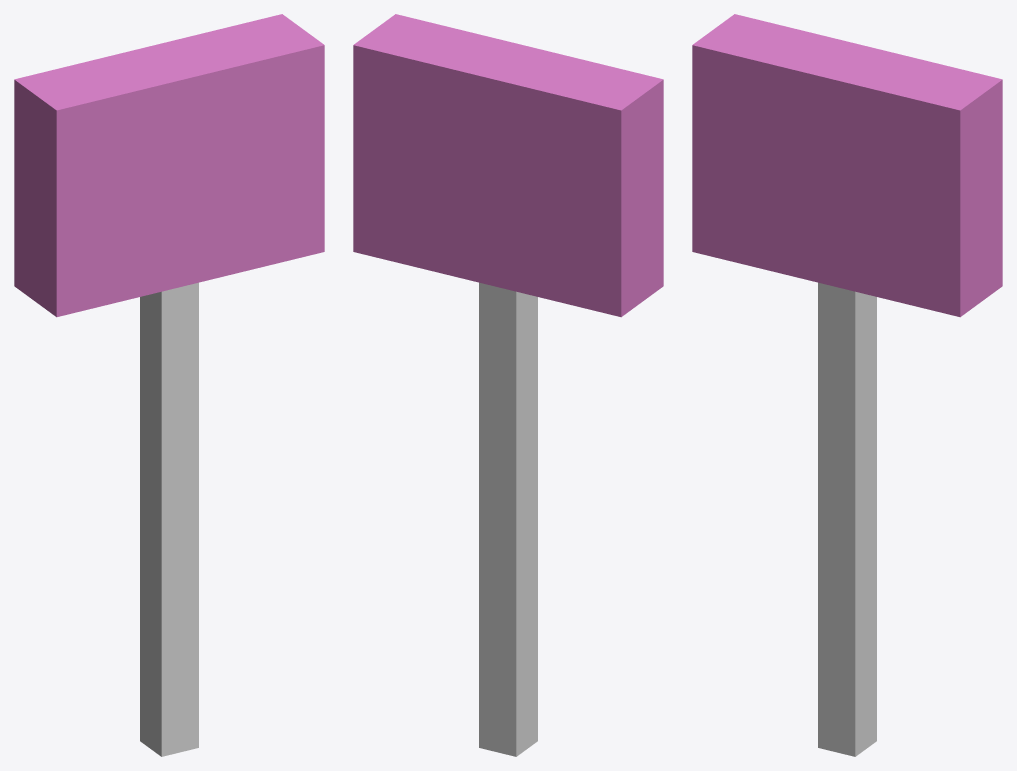
Rendered from convinience store_sign (1).fbx.
The picture shows the model from 3 angles, left to right: view 1: azimuth 30°, elevation 25°; view 2: azimuth 150°, elevation 25°; view 3: azimuth 330°, elevation 25°; orthographic projection.
Parts seen in each view (by area): view 1: Cube.001, Cube.001_cell.008, Cube.001_cell.013, Cube.001_cell.005, Cube.001_cell.006, Cube.001_cell.014, Cube.001_cell.004, Cube.001_cell, Cube.001_cell.007, Cube.001_cell.002; view 2: Cube.001, Cube.001_cell.011, Cube.001_cell.002; view 3: Cube.001_cell.008, Cube.001, Cube.001_cell.005, Cube.001_cell.013, Cube.001_cell.014, Cube.001_cell.006, Cube.001_cell, Cube.001_cell.004, Cube.001_cell.007, Cube.001_cell.002, Cube.001_cell.011, Cube.001_cell.009.
Part boxes in pixels (<box>): Cube.001: <box>14,29,324,756</box>; Cube.001_cell.008: <box>154,136,265,517</box>; Cube.001_cell.013: <box>56,78,190,213</box>; Cube.001_cell.005: <box>191,45,324,162</box>; Cube.001_cell.006: <box>56,197,127,316</box>; Cube.001_cell.014: <box>266,149,324,265</box>; Cube.001_cell.004: <box>161,515,179,756</box>; Cube.001_cell: <box>180,510,198,752</box>; Cube.001_cell.007: <box>128,174,153,299</box>; Cube.001_cell.002: <box>149,14,302,61</box>; Cube.001: <box>353,14,663,756</box>; Cube.001_cell.011: <box>479,510,497,752</box>; Cube.001_cell.002: <box>353,29,507,77</box>; Cube.001_cell.008: <box>789,136,900,518</box>; Cube.001: <box>692,14,1002,756</box>; Cube.001_cell.005: <box>826,78,981,213</box>; Cube.001_cell.013: <box>692,45,825,165</box>; Cube.001_cell.014: <box>901,199,981,317</box>; Cube.001_cell.006: <box>692,148,762,268</box>; Cube.001_cell: <box>836,512,865,756</box>; Cube.001_cell.004: <box>818,509,836,752</box>; Cube.001_cell.007: <box>763,156,789,275</box>; Cube.001_cell.002: <box>848,47,1002,94</box>; Cube.001_cell.011: <box>866,504,876,748</box>; Cube.001_cell.009: <box>981,187,1002,299</box>.
Bounding box in the file's own units: 176 × 429 × 48.44.
